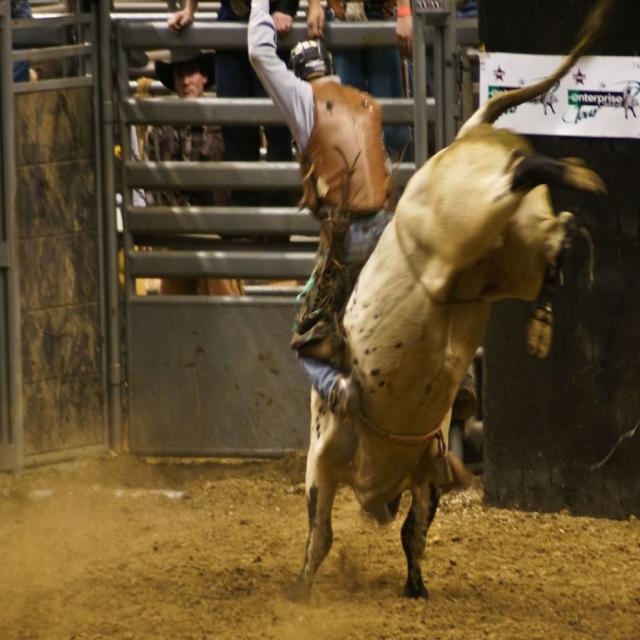Deer: (292, 2, 606, 608)
